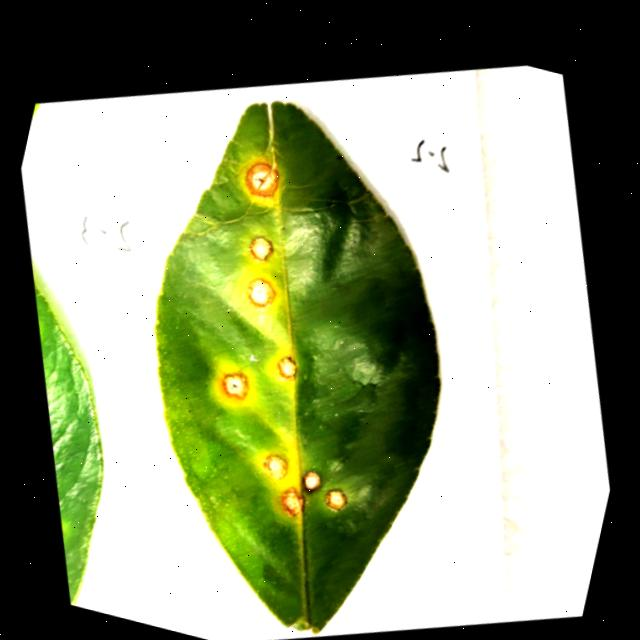antracnose: (155, 102, 438, 633), (243, 161, 277, 200), (247, 279, 273, 307), (220, 374, 247, 400), (280, 488, 302, 516), (261, 455, 286, 479), (249, 237, 272, 262), (277, 357, 296, 379), (326, 490, 345, 509), (302, 471, 320, 491)
